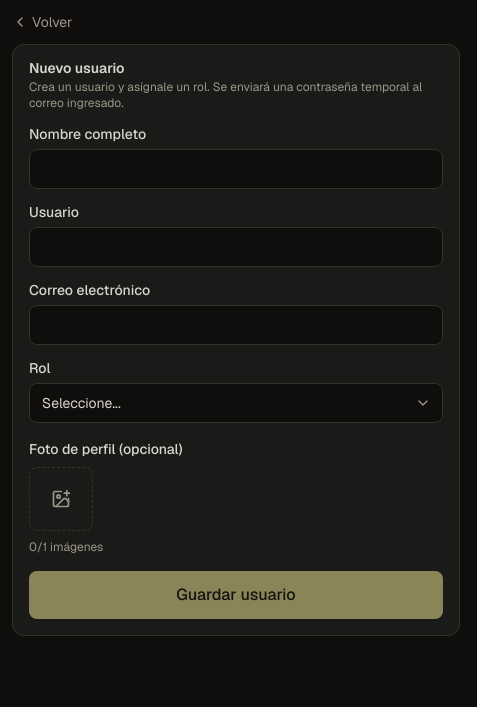
Test case: CreateUserForm (admin) › muestra el error devuelto por la acción cuando el usuario ya existe
In the field labelled "Nombre completo": (236, 169) x1=29 y1=149 x2=443 y2=189, type "Ana Rojas"
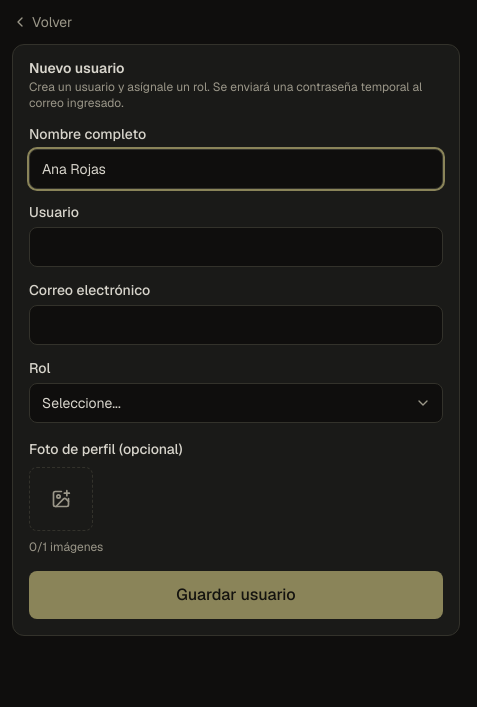
In the field labelled "Usuario": (236, 247) x1=29 y1=227 x2=443 y2=267, type "existente"
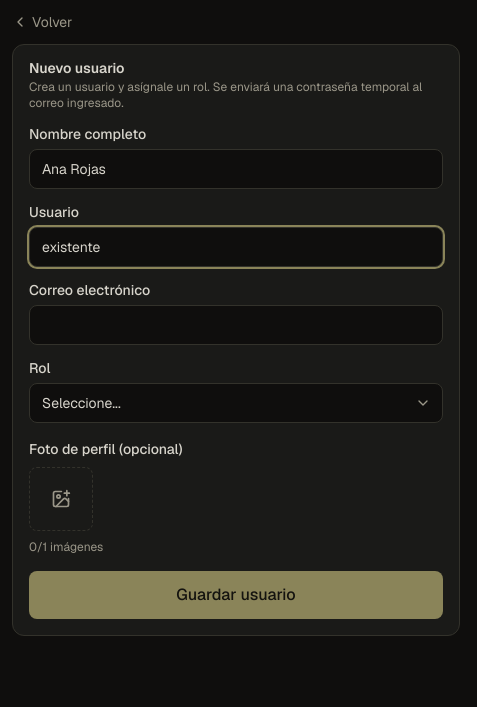
In the field labelled "Correo electrónico": (236, 325) x1=29 y1=305 x2=443 y2=345, type "ana.rojas@example.com"
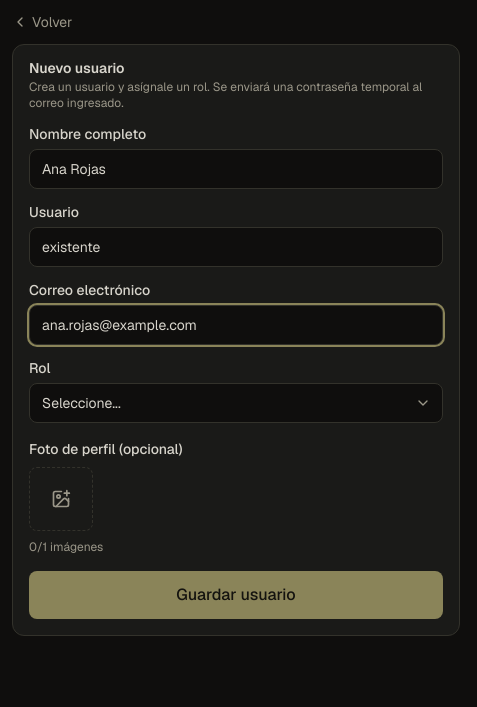
Select "Administrador" in the dropdown labelled "Rol": (236, 403) x1=29 y1=383 x2=443 y2=423
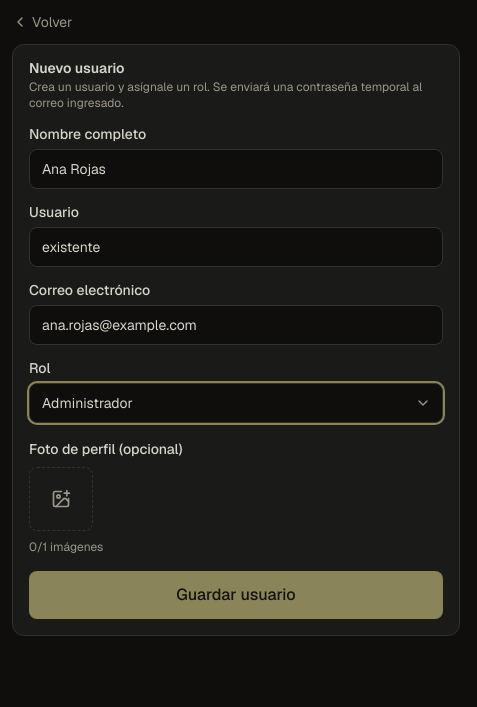
Click the button "Guardar usuario": (236, 595) x1=29 y1=571 x2=443 y2=619
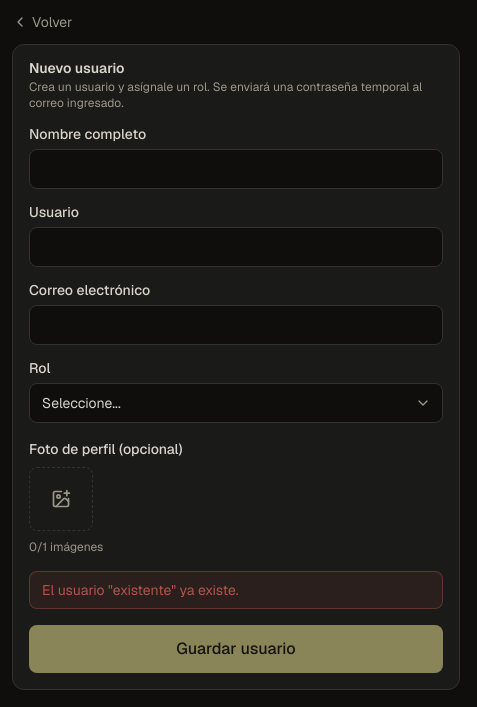
Expected: the message shows "ya existe", x1=42 y1=581 x2=239 y2=599
